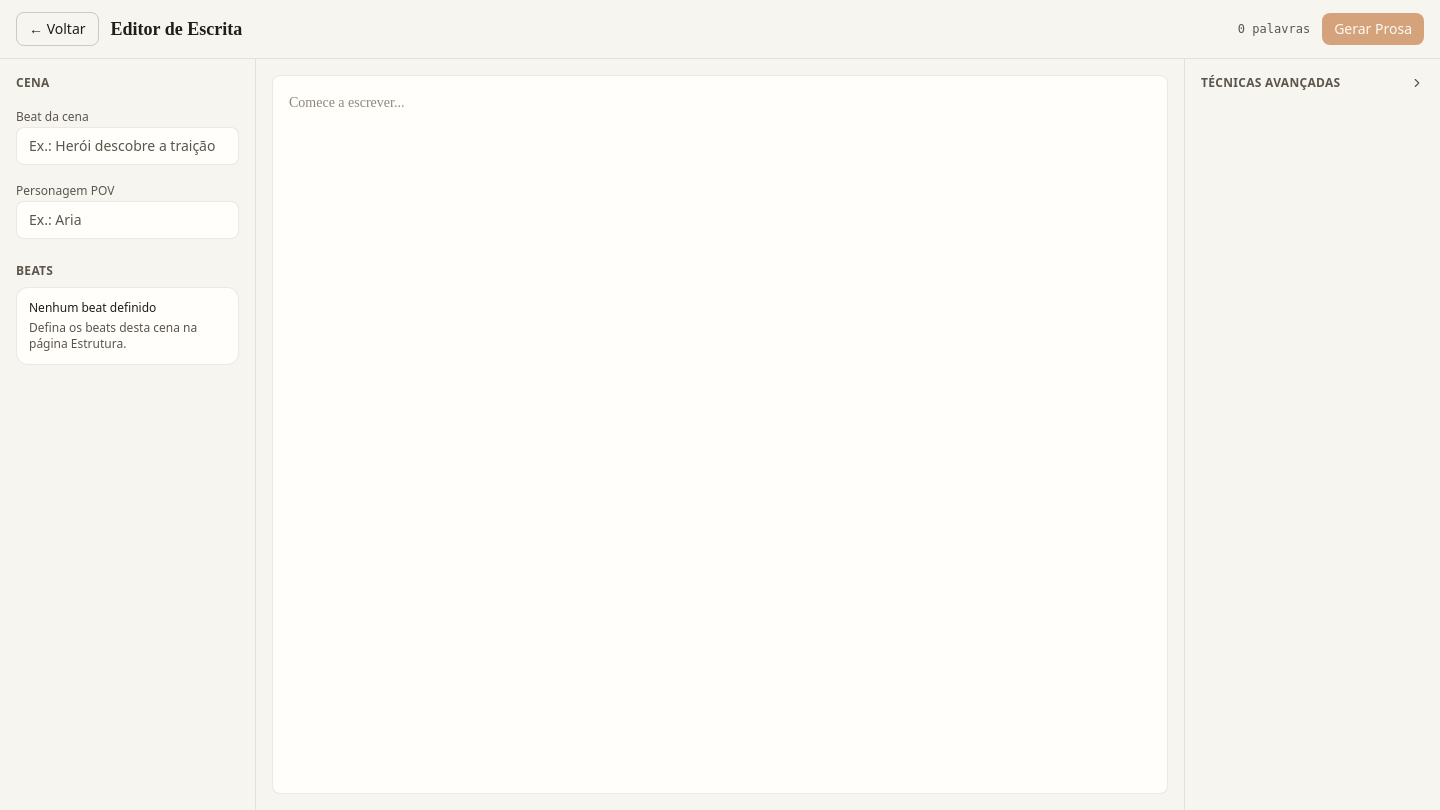
Scenario: WritingPage › geração de prosa › exibe erro inline em português quando o LLM falha
The image size is (1440, 810).
Type "Herói descobre a traição" into the field labelled "Beat da cena".
click(128, 146); type("Herói descobre a traição")  # box [16,127,239,165]
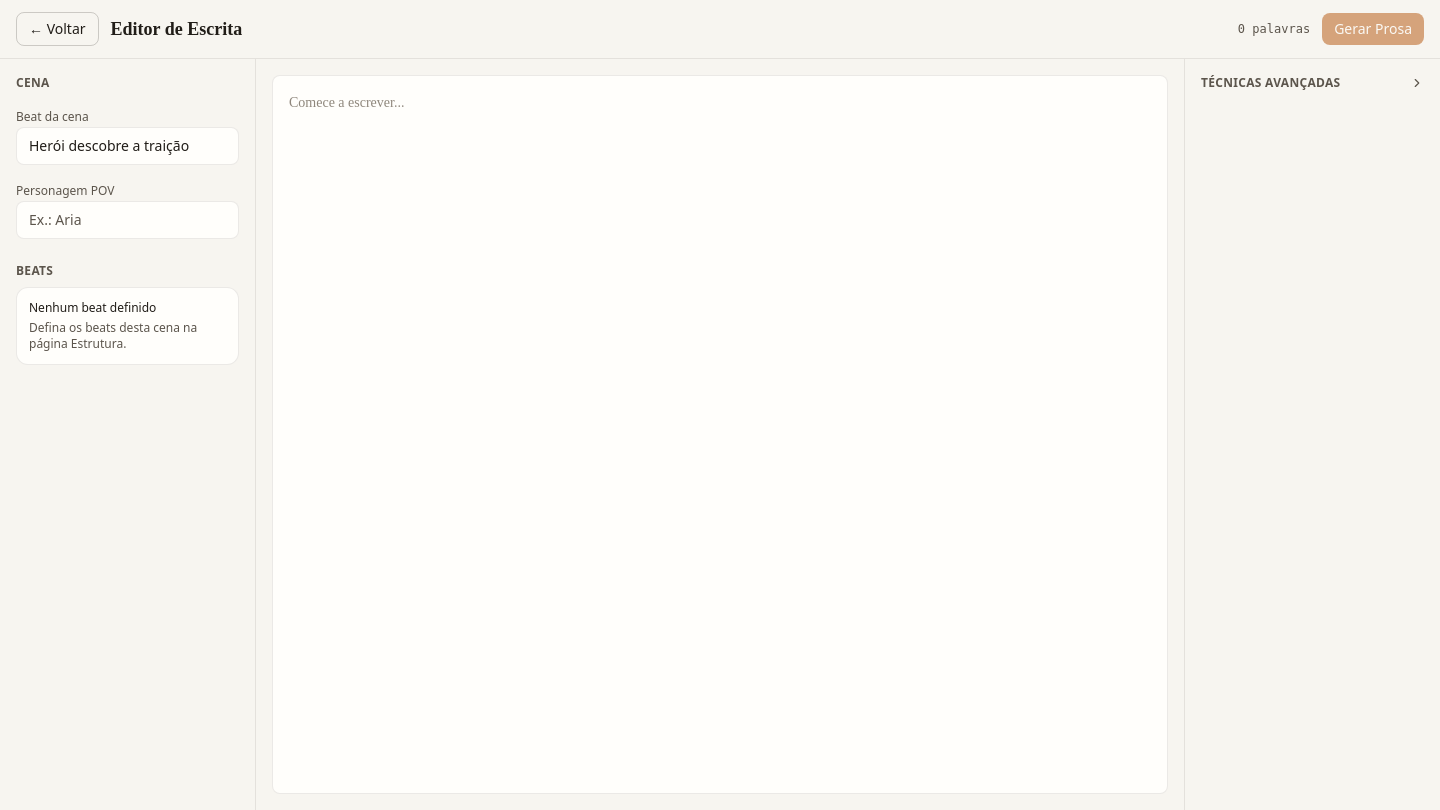
Type "Aria" into the field labelled "Personagem POV".
click(128, 220); type("Aria")  # box [16,201,239,239]
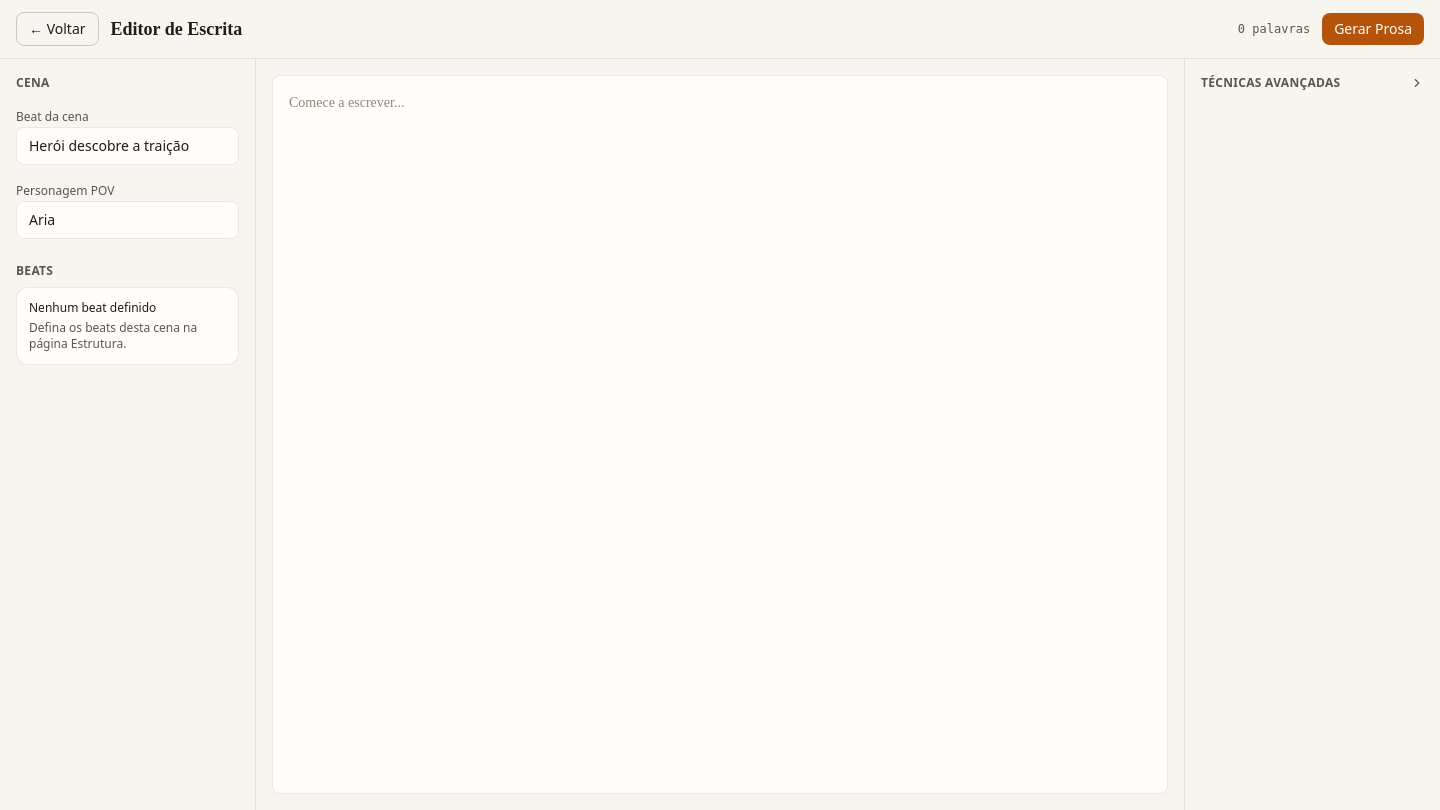
Click the button "Gerar Prosa".
click(1373, 29)  # box [1322,13,1424,45]
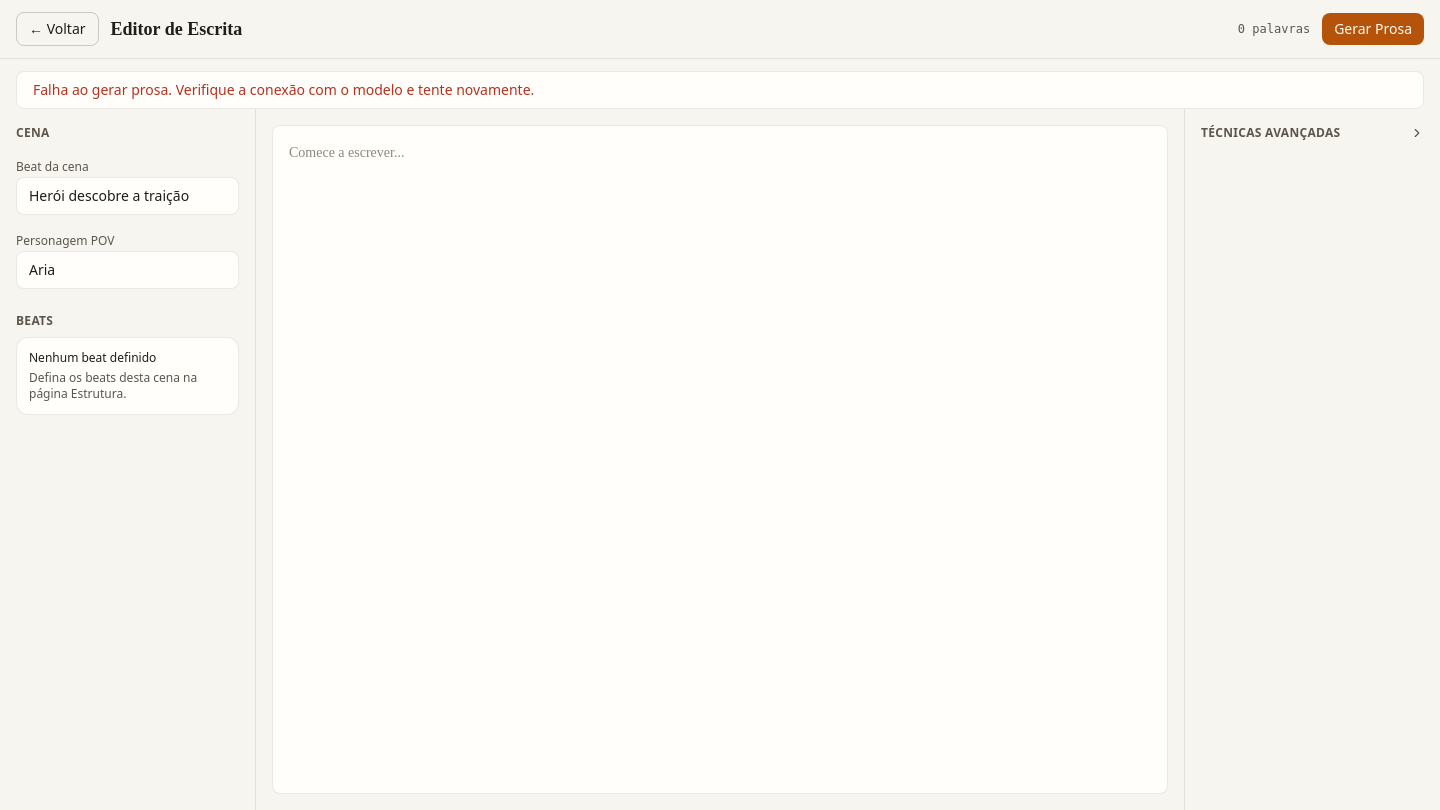
Result: the message shows "Falha ao gerar prosa" at [33,80,534,99]
